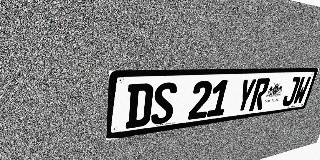1: (207, 80, 231, 117)
2: (188, 80, 214, 120)
D: (125, 83, 154, 129)
J: (281, 77, 301, 107)
R: (249, 78, 271, 111)
S: (150, 82, 178, 125)
W: (292, 76, 312, 105)
Y: (234, 78, 257, 113)
